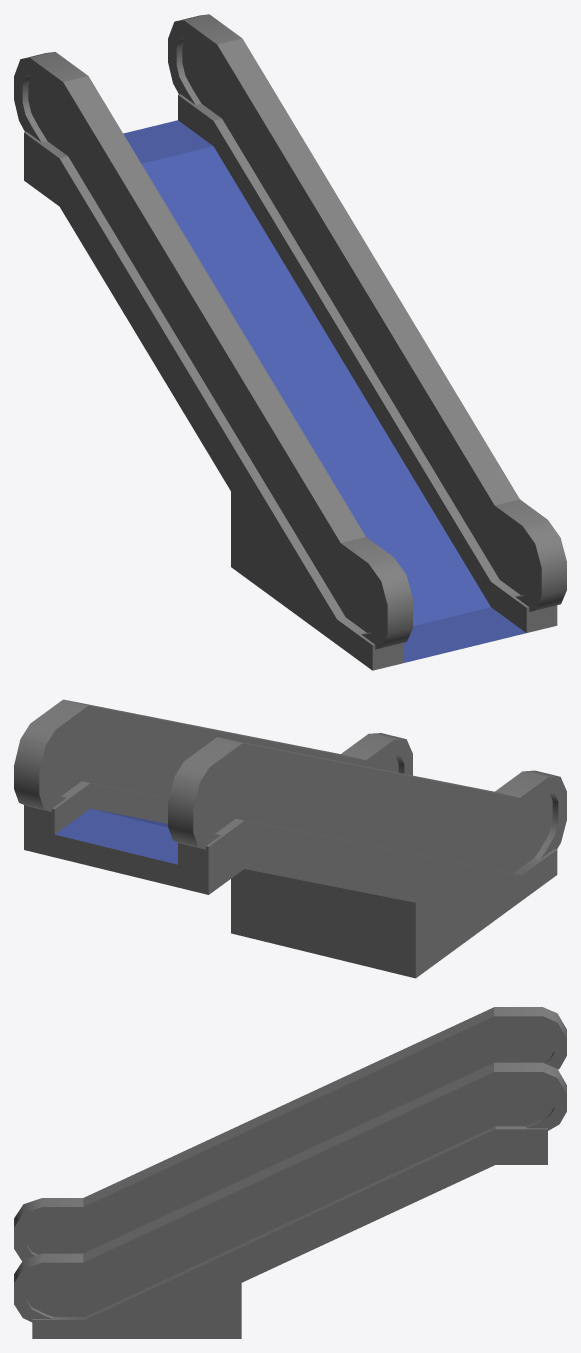
Rendered from SM_Escalator_1_GD.fbx.
3 renders of one model, top to bottom at view 1: azimuth 30°, elevation 25°; view 2: azimuth 150°, elevation 25°; view 3: azimuth 270°, elevation 25°, orthographic. The views are drawn at different scales.
Parts seen in each view (by area): view 1: SM_Escalator_1_GD; view 2: SM_Escalator_1_GD; view 3: SM_Escalator_1_GD.
Boxes of the visible parts, x1,y1,x2,y2 form: SM_Escalator_1_GD: [14, 14, 566, 670]; SM_Escalator_1_GD: [14, 699, 566, 978]; SM_Escalator_1_GD: [14, 1007, 566, 1338].
Bounding box in the file's own units: 150 × 279 × 525.
